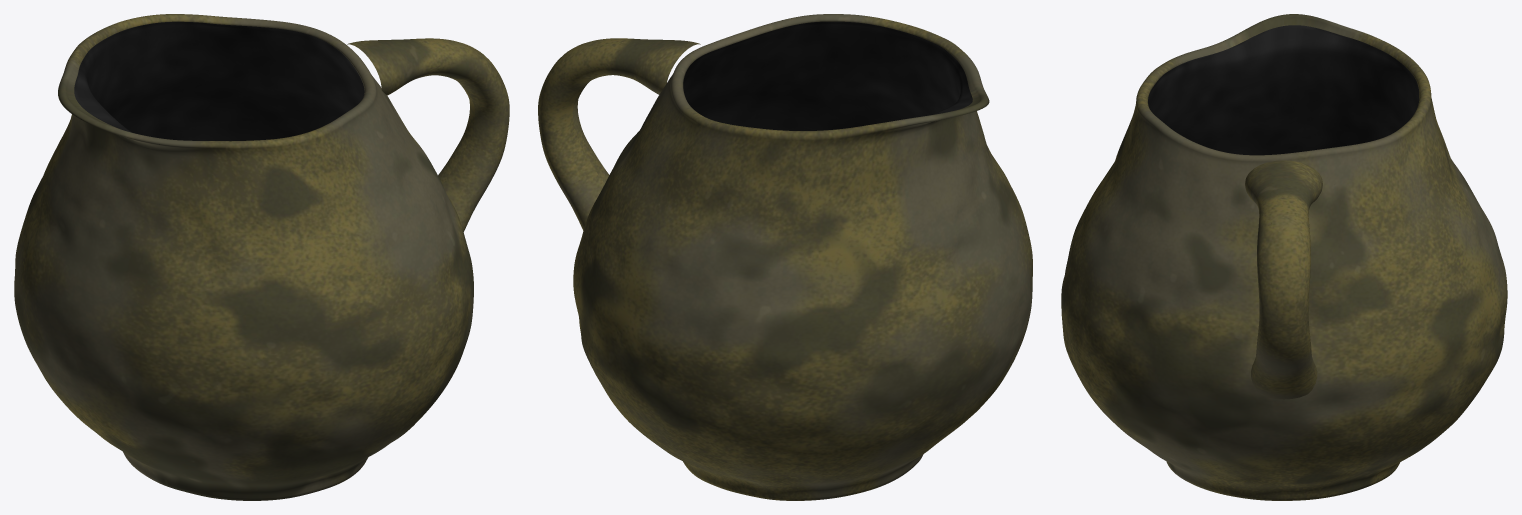
File: robust-jug-seaweed.glb
The picture shows the model from 3 angles, left to right: view 1: azimuth 30°, elevation 25°; view 2: azimuth 150°, elevation 25°; view 3: azimuth 270°, elevation 25°; orthographic projection. The views are drawn at different scales.
Visible parts, largest first — view 1: jug; view 2: jug; view 3: jug.
Boxes of the visible parts, left/top/right/bottom form: jug: left=14, top=14, right=509, bottom=500; jug: left=538, top=14, right=1032, bottom=500; jug: left=1061, top=14, right=1507, bottom=500.
Size of the model in its own units: 0.22 by 0.18 by 0.2.
Materials: 2 (2 with a texture image).
